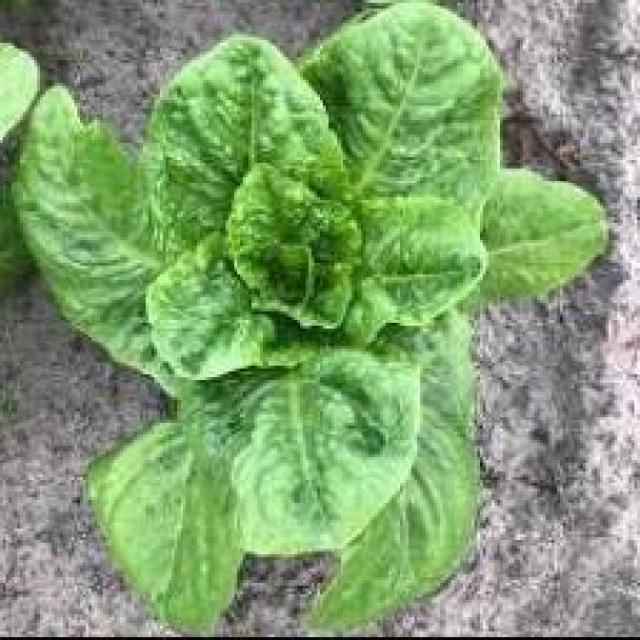Lettuce: (27, 5, 594, 612)
